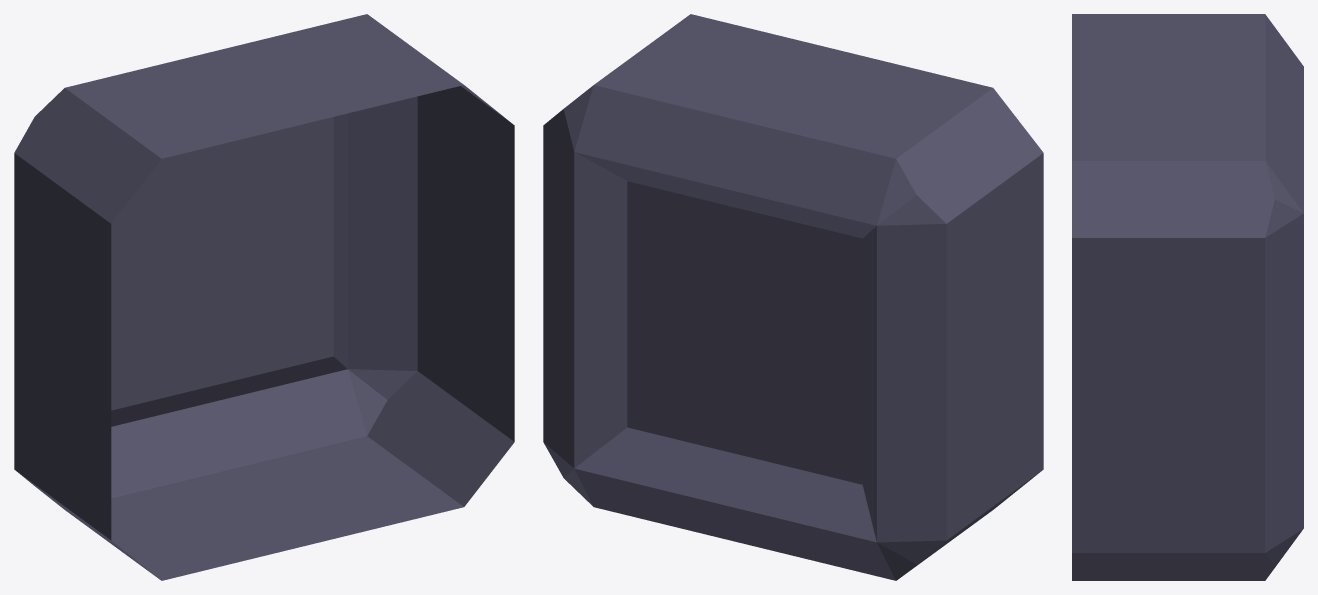
Rendered from cargo_tool.fbx.
3 renders of one model, left to right at view 1: azimuth 30°, elevation 25°; view 2: azimuth 150°, elevation 25°; view 3: azimuth 270°, elevation 25°, orthographic.
Parts seen in each view (by area): view 1: cargo_tool; view 2: cargo_tool; view 3: cargo_tool.
Boxes of the visible parts, x1,y1,x2,y2 form: cargo_tool: (14, 14, 514, 580); cargo_tool: (543, 14, 1043, 580); cargo_tool: (1072, 14, 1303, 580).
Bounding box in the file's own units: 60 × 60 × 30.
